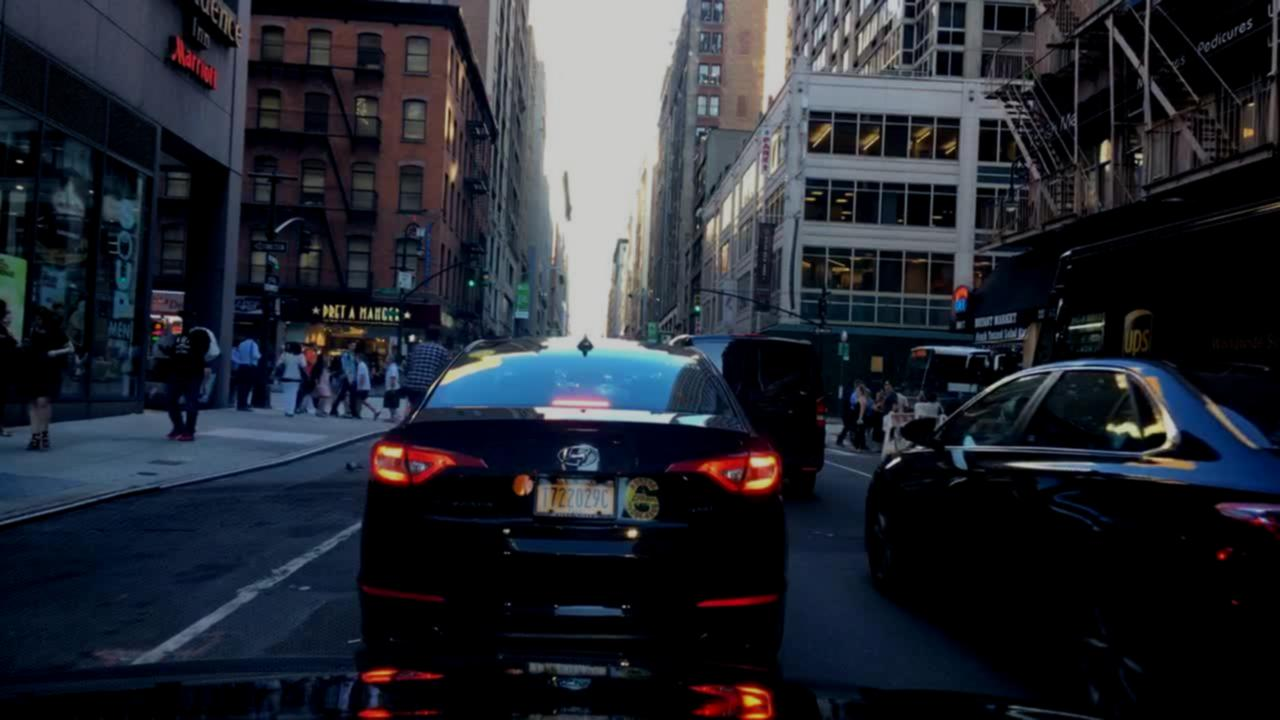Hyundai: (550, 439, 608, 475)
